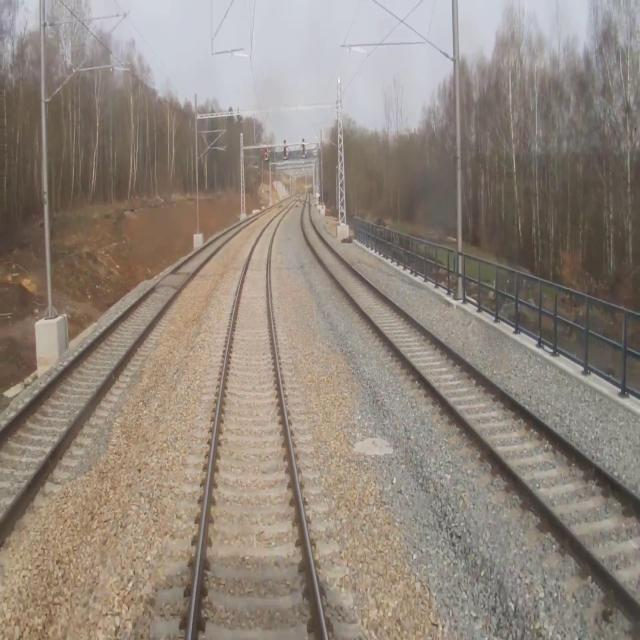rail-track: (302, 193, 640, 601), (0, 197, 288, 517), (191, 199, 323, 639)
